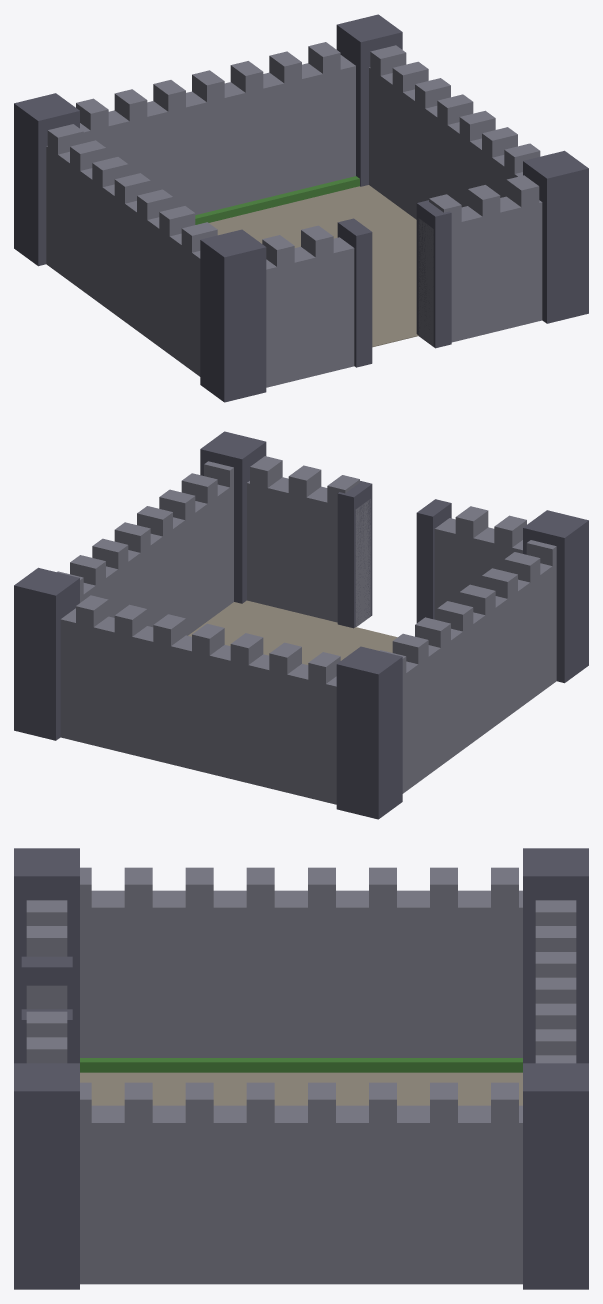
File: dungeon.glb
3 views of the same model, one above another, from view 1: azimuth 30°, elevation 25°; view 2: azimuth 150°, elevation 25°; view 3: azimuth 270°, elevation 25° (orthographic). The views are drawn at different scales.
Visible parts, largest first — view 1: DungeonWalls, DungeonFloor; view 2: DungeonWalls, DungeonFloor; view 3: DungeonWalls, DungeonFloor.
Part boxes in pixels (x1,y1,x2,y2): DungeonWalls: (14, 14, 588, 402); DungeonFloor: (209, 185, 418, 347); DungeonWalls: (14, 431, 588, 819); DungeonFloor: (188, 600, 397, 664); DungeonWalls: (14, 848, 588, 1289); DungeonFloor: (80, 1072, 522, 1105).
Size of what is drawn, in the model's own units: 11.3 by 4.3 by 11.3.
